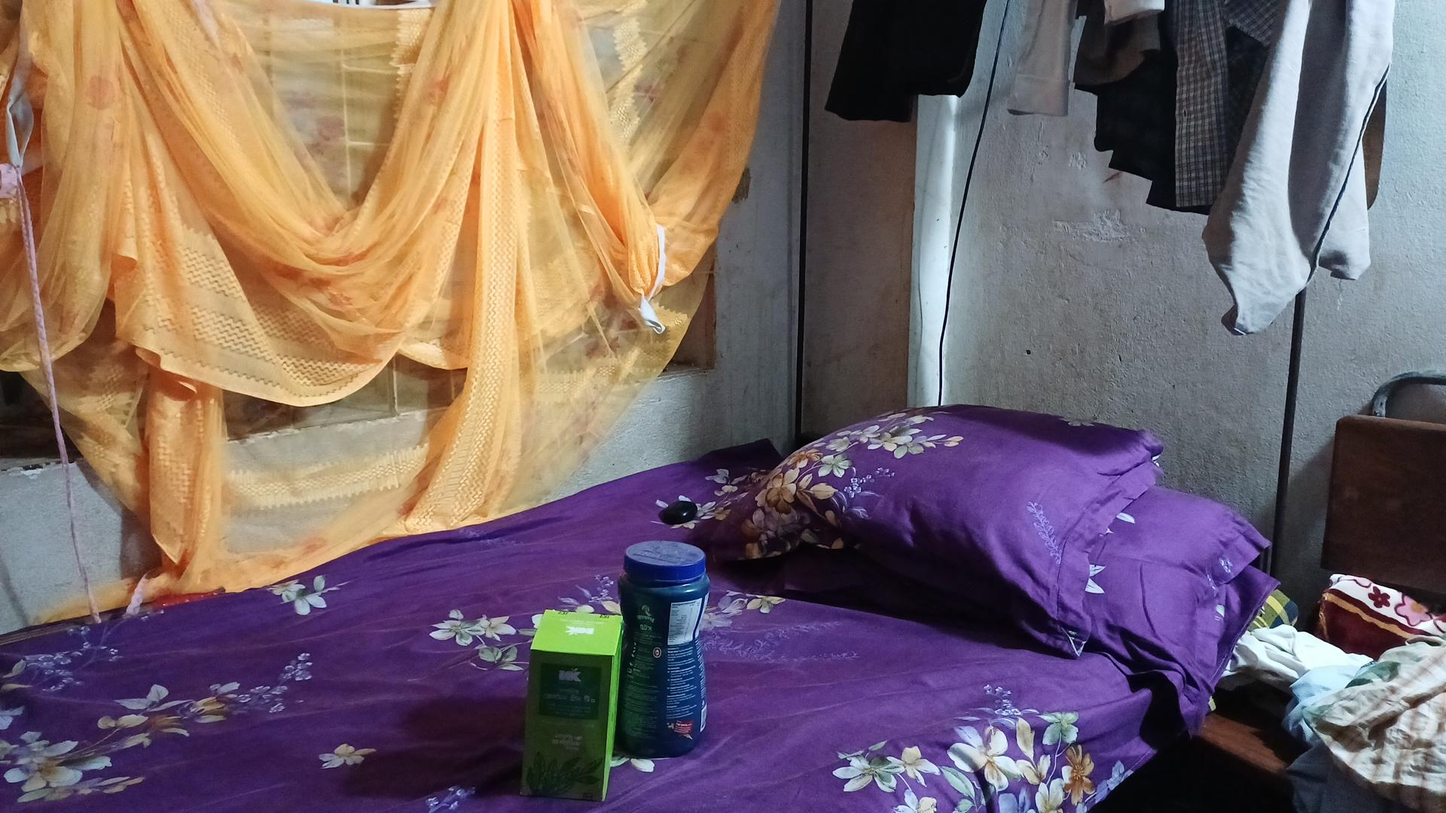Bottle: (626, 551, 737, 743)
Box: (522, 601, 619, 790)
Pillow: (770, 383, 1250, 664)
